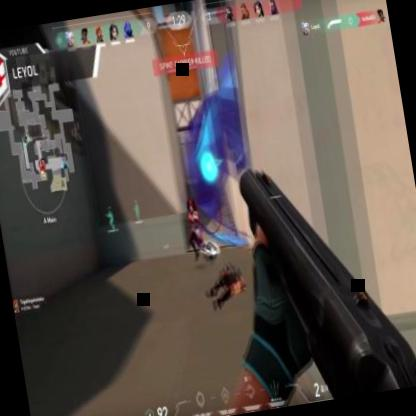enemy: (182, 198, 209, 262)
enemy_head: (188, 202, 193, 212)
